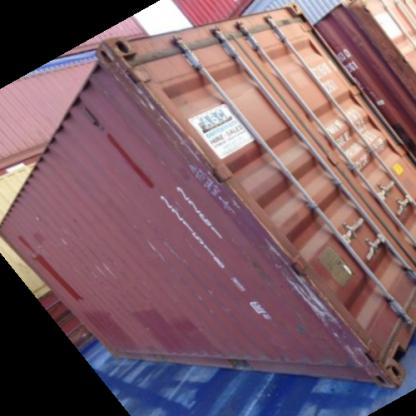Damage: (268, 248, 328, 322), (181, 165, 244, 212), (120, 70, 166, 122), (342, 331, 374, 373), (96, 252, 122, 283), (25, 207, 51, 226), (75, 258, 95, 278), (52, 229, 70, 245)
